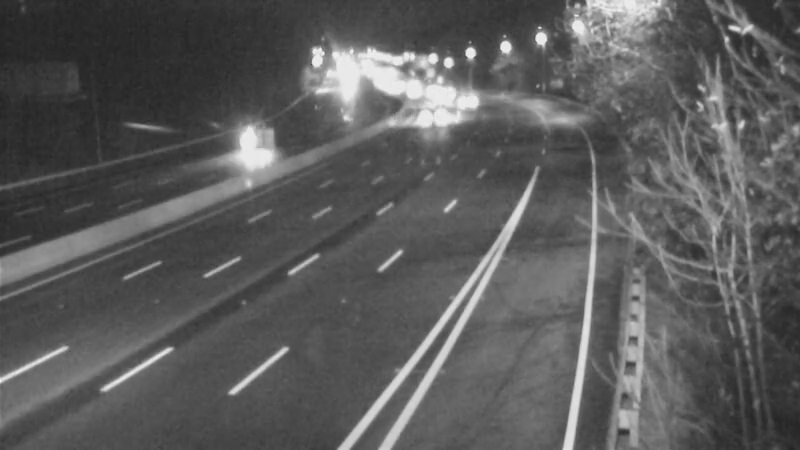vehicle: (416, 68, 466, 118), (441, 81, 491, 131), (406, 93, 456, 143), (409, 77, 459, 127), (225, 115, 275, 165)
